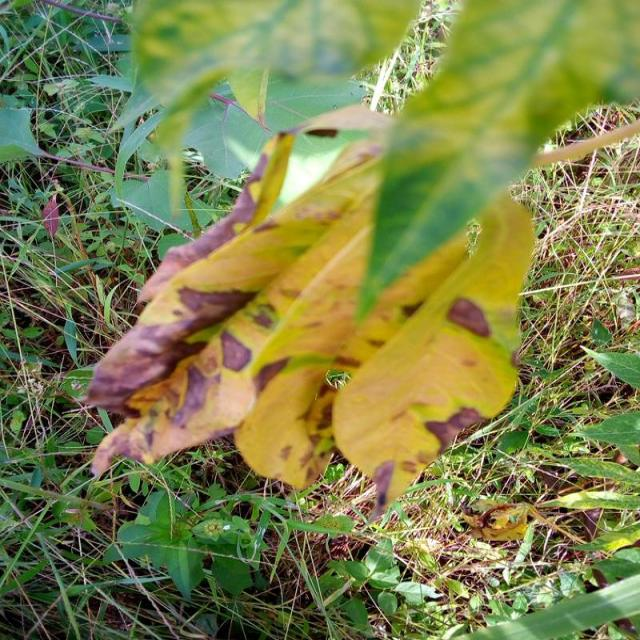cassava leaf: (83, 111, 536, 513)
